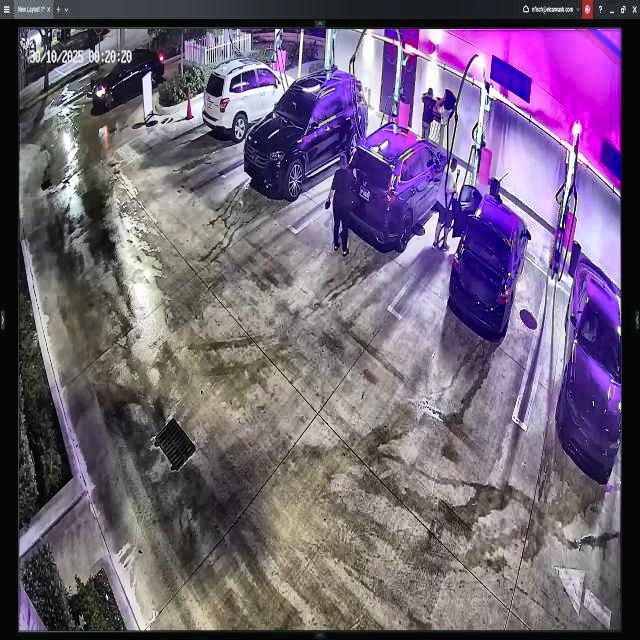Car: (247, 68, 367, 196), (341, 118, 449, 250), (450, 187, 532, 336)
